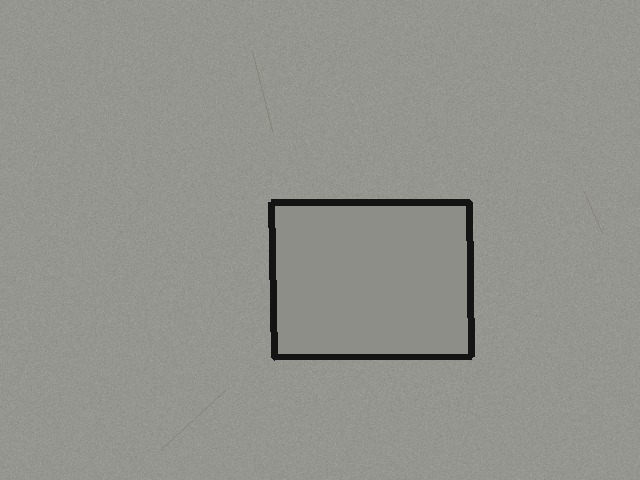parking_area: (271, 202, 471, 357)
